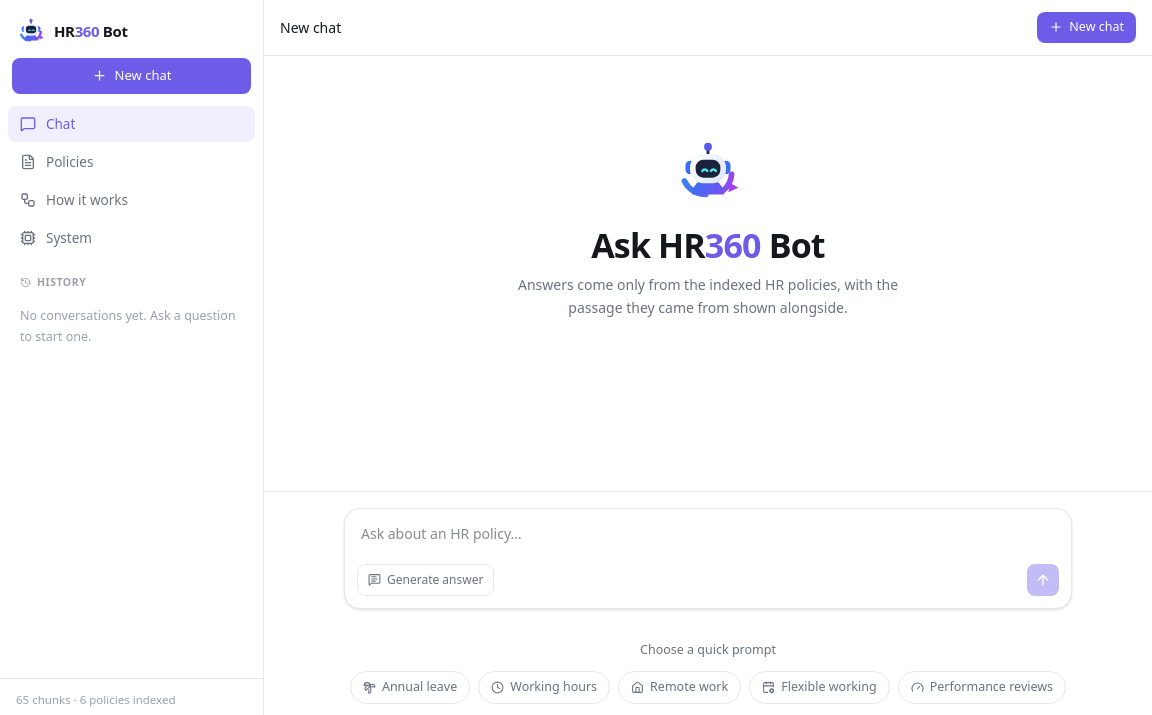
New chat › returns to the chat page from Policies
The image size is (1152, 715).
Click the link "Policies".
click(57, 162)  # box [20,153,93,171]
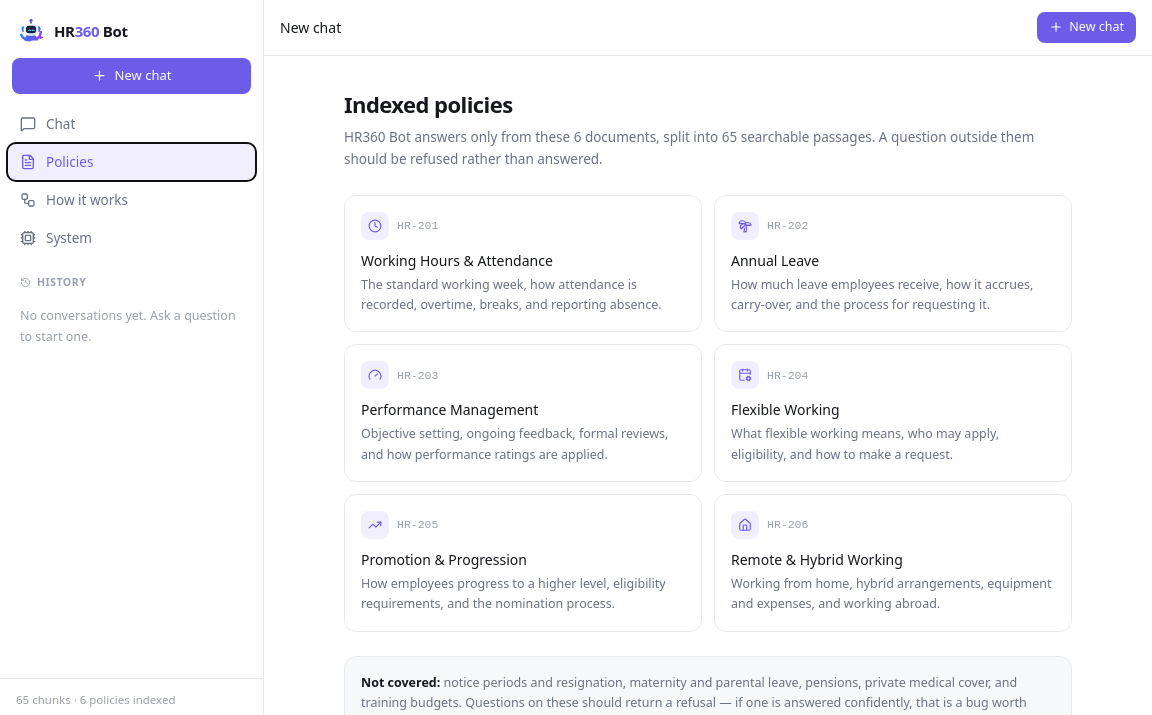
Result: the heading "Indexed policies" is shown at [344,89,512,119]
Click the 2nd button "New chat".
click(132, 76)  # box [12,58,251,94]
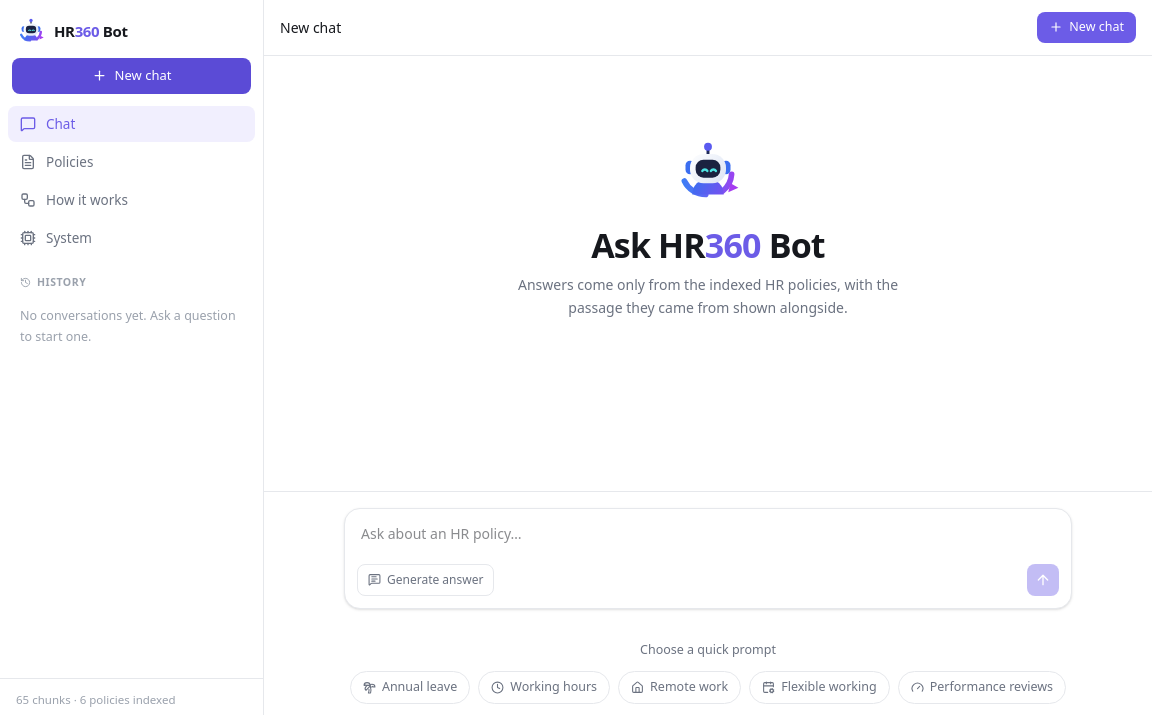
Result: the heading "Indexed policies" is gone
Result: the text box with placeholder "Ask about an HR policy…" is shown at [345,508,1071,554]
